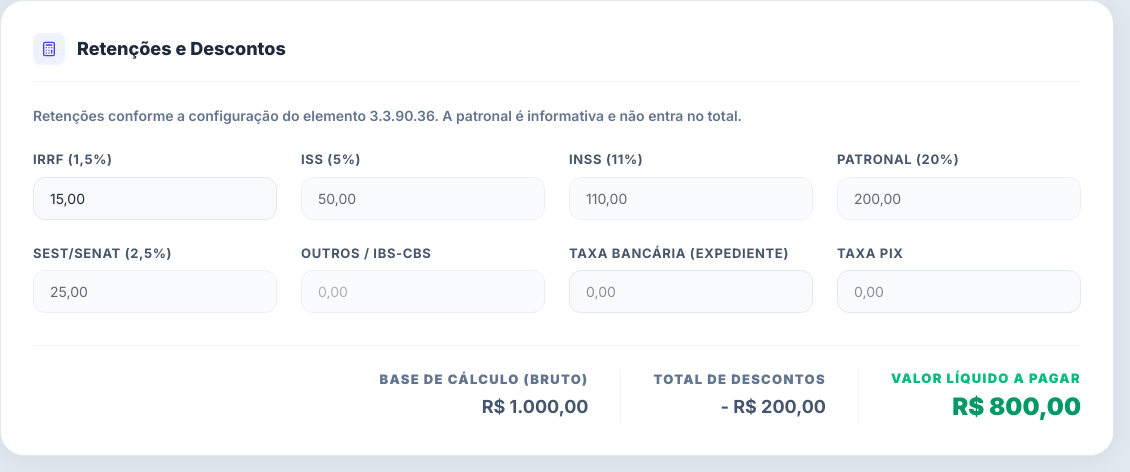
Scenario: OpTaxesSection — config e permissões › GESTOR edita IRRF quando o admin marca editavelOperador, e o valor digitado não é sobrescrito
Replace the text in the field labelled "IRRF (1,5%)" with "1000" at point(155, 198), box left=33, top=177, right=277, bottom=220
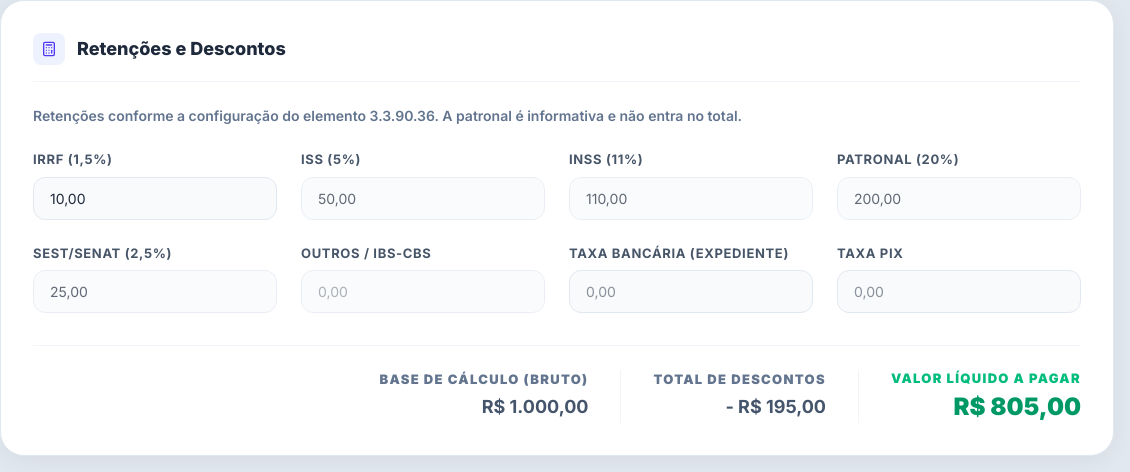
Result: the text with test id "resumo-liquido" reads "R$ 805,00" at left=954, top=392, right=1081, bottom=422
Result: the field labelled "IRRF (1,5%)" holds "10,00" at left=33, top=177, right=277, bottom=220
